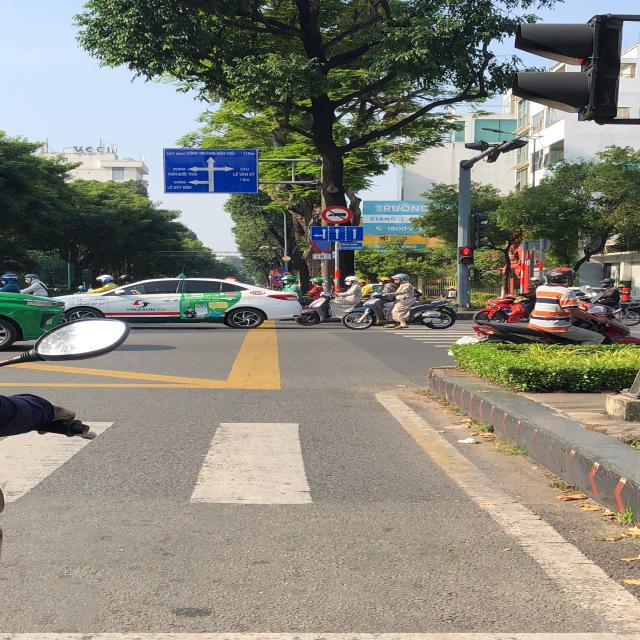Bien bao cam xe so-mi ro-mooc: (319, 205, 356, 226)
